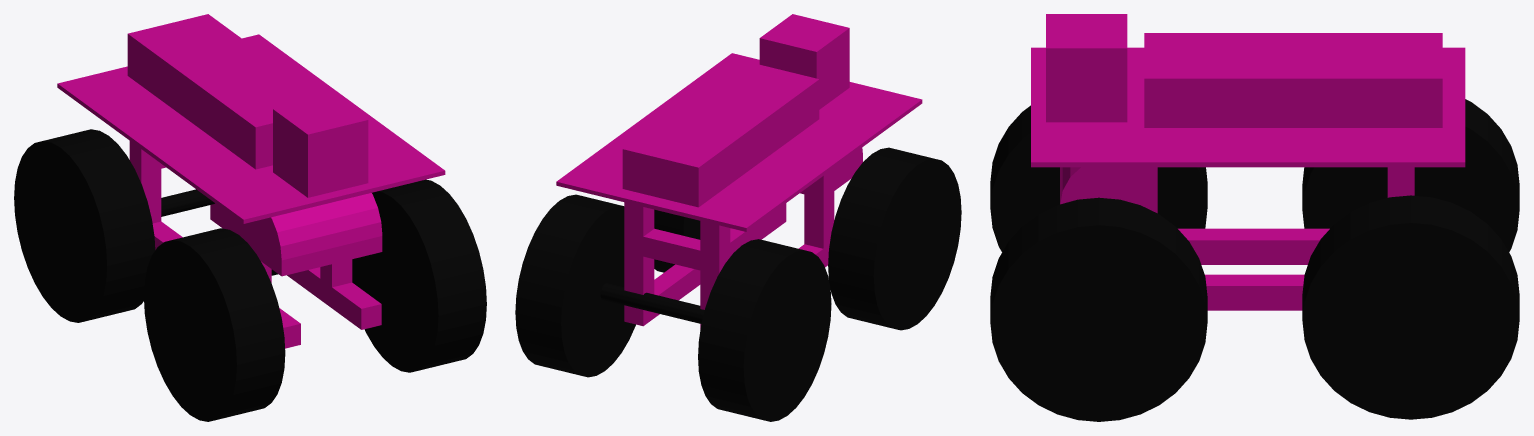
File: robot.gltf
The picture shows the model from 3 angles, left to right: view 1: azimuth 30°, elevation 25°; view 2: azimuth 150°, elevation 25°; view 3: azimuth 270°, elevation 25°; orthographic projection. The views are drawn at different scales.
Visible parts, largest first — view 1: robot_base, rear_axis, wheel, wheel.001; view 2: robot_base, rear_axis, wheel, wheel.001; view 3: robot_base, rear_axis, wheel.001, wheel.
Boxes of the visible parts, x1,y1,x2,y2 form: robot_base: (57, 14, 445, 348); rear_axis: (14, 129, 278, 322); wheel: (144, 228, 285, 421); wheel.001: (352, 179, 486, 372); robot_base: (556, 14, 922, 329); rear_axis: (515, 194, 831, 421); wheel: (828, 147, 961, 330); wheel.001: (654, 209, 700, 272); robot_base: (1031, 14, 1465, 310); rear_axis: (1302, 99, 1519, 419); wheel.001: (990, 197, 1207, 421); wheel: (990, 105, 1207, 251).
Bounding box in the file's own units: 6.2 × 6.5 × 9.75.
